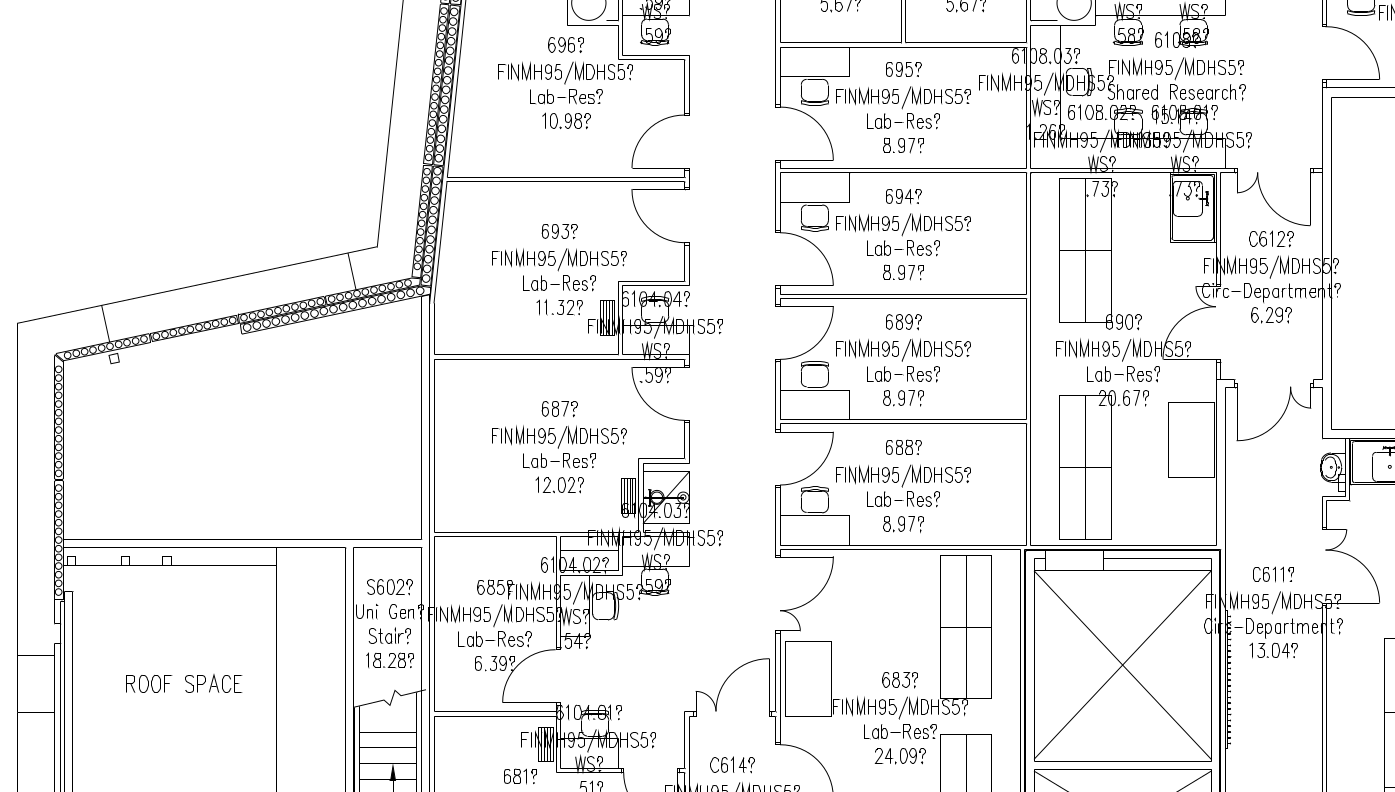door: (1323, 21, 1384, 88), (1325, 548, 1386, 615), (775, 228, 840, 290), (768, 302, 833, 364), (625, 364, 690, 426), (770, 426, 835, 488), (1232, 378, 1289, 446), (1258, 168, 1315, 236), (491, 647, 555, 707), (1155, 304, 1219, 364), (772, 553, 836, 611), (715, 654, 772, 719), (626, 110, 681, 172), (628, 187, 683, 249), (778, 102, 833, 164), (771, 610, 810, 636), (1289, 381, 1319, 412), (1319, 526, 1354, 551), (1235, 164, 1259, 198), (693, 686, 716, 720)
